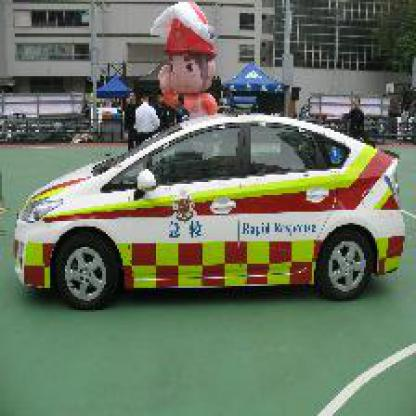emergency: (9, 91, 414, 314)
